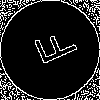F: (25, 25, 79, 71)
